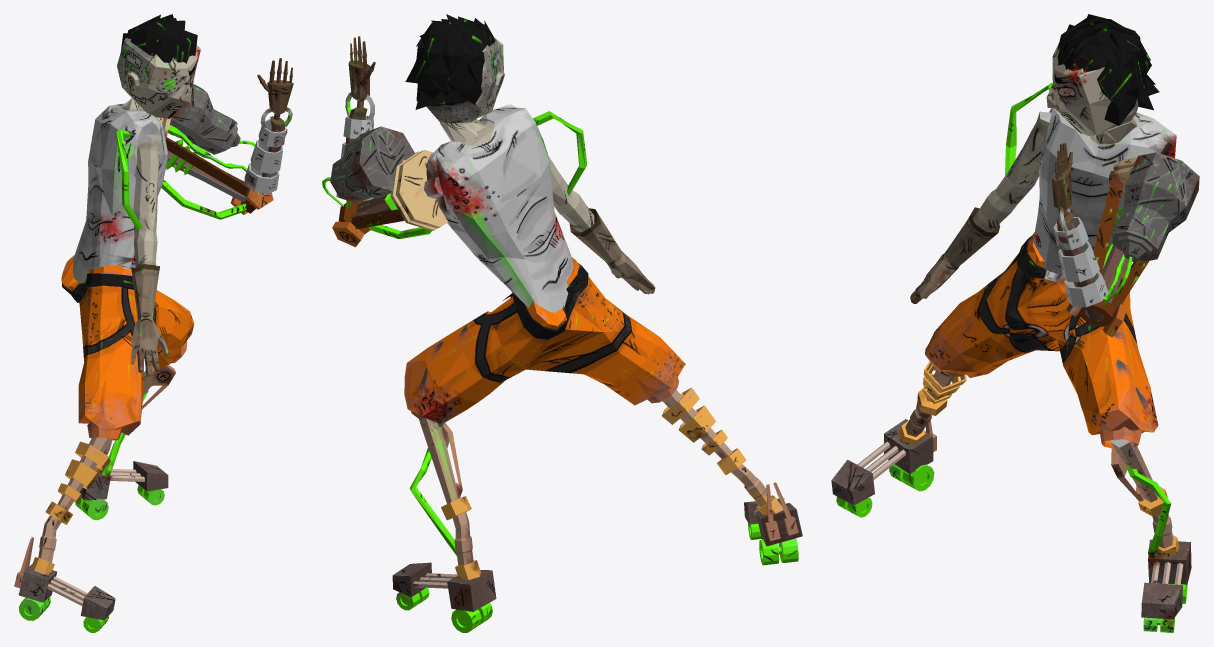
File: CyborgFINALAnimation_000068.obj
The picture shows the model from 3 angles, left to right: view 1: azimuth 30°, elevation 25°; view 2: azimuth 150°, elevation 25°; view 3: azimuth 270°, elevation 25°; orthographic projection. The views are drawn at different scales.
Parts seen in each view (by area): view 1: CyborgMesh_Cube.002; view 2: CyborgMesh_Cube.002; view 3: CyborgMesh_Cube.002.
Boxes of the visible parts, left/top/right/bottom form: CyborgMesh_Cube.002: left=14, top=14, right=293, bottom=632; CyborgMesh_Cube.002: left=322, top=14, right=802, bottom=632; CyborgMesh_Cube.002: left=831, top=14, right=1199, bottom=632.
Bounding box in the file's own units: 6.04 × 8.64 × 4.76.
